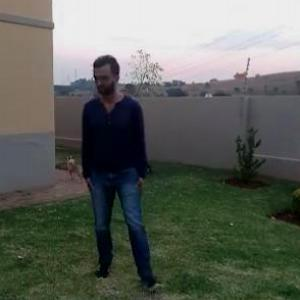follow: (78, 48, 161, 298)
